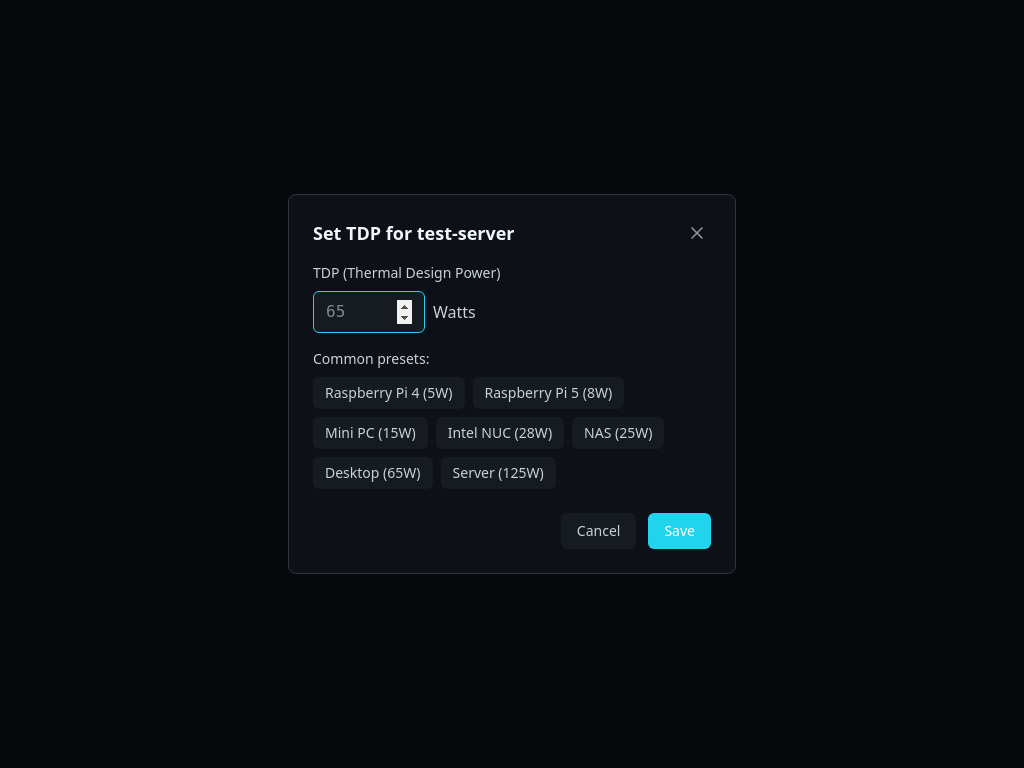
Test: TdpEditModal › Save action › disables inputs during save
Step 1. Click the button with test id "tdp-modal-save" → (680, 531), box 648,513 -> 711,549
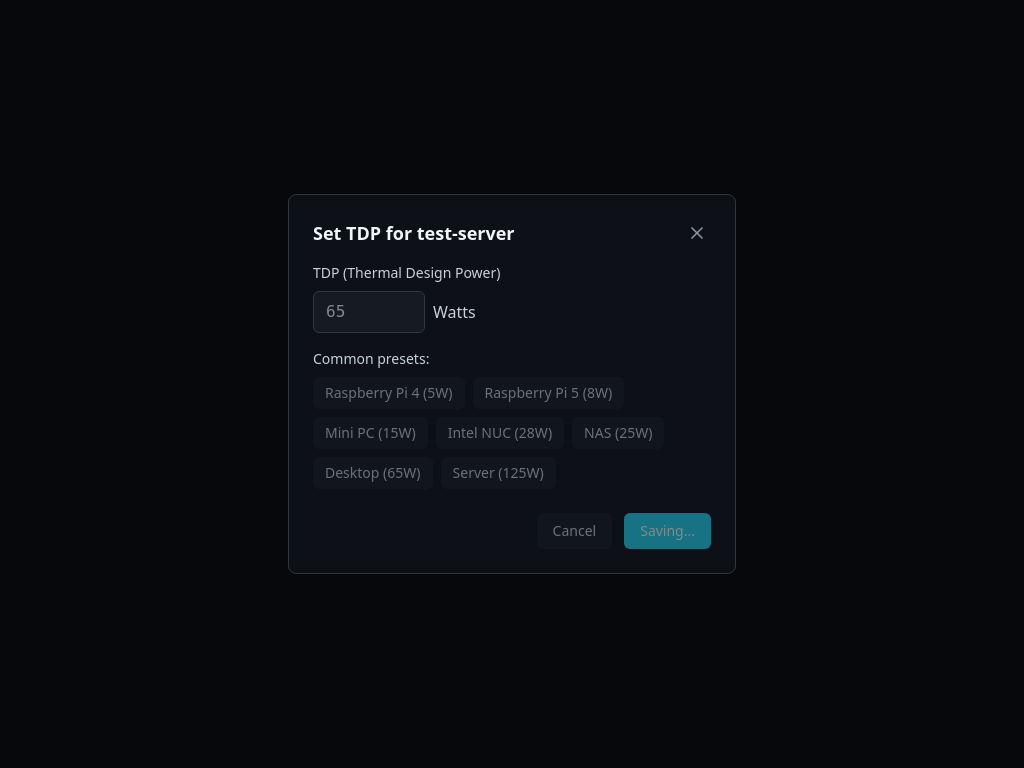
Now the number field with test id "tdp-modal-input" is disabled, box 313,291 -> 425,333
